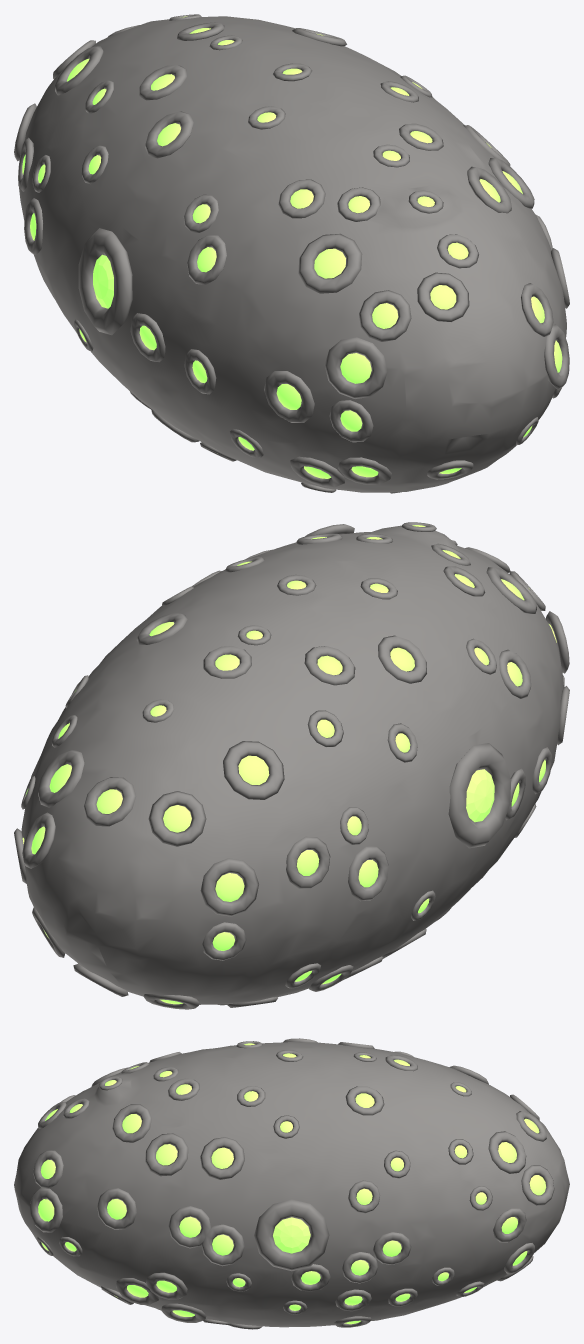
3 renders of one model, top to bottom at view 1: azimuth 30°, elevation 25°; view 2: azimuth 150°, elevation 25°; view 3: azimuth 270°, elevation 25°, orthographic. The views are drawn at different scales.
Parts seen in each view (by area): view 1: Segment0, RimsS, PoresS, HoleL0; view 2: Segment0, RimsS, PoresS, HoleL0; view 3: Segment0, RimsS, PoresS, HoleR0.
Boxes of the visible parts, x1,y1,x2,y2 form: Segment0: (19, 16, 566, 492); RimsS: (14, 14, 569, 493); PoresS: (22, 16, 562, 478); HoleL0: (93, 254, 113, 308); Segment0: (21, 525, 563, 1004); RimsS: (14, 522, 569, 1009); PoresS: (22, 525, 556, 1004); HoleL0: (466, 769, 494, 822); Segment0: (14, 1042, 569, 1327); RimsS: (30, 1038, 554, 1329); PoresS: (38, 1043, 546, 1324); HoleR0: (273, 1217, 310, 1253).
Size of the model in its own units: 0.9087 by 0.8087 by 1.58.
